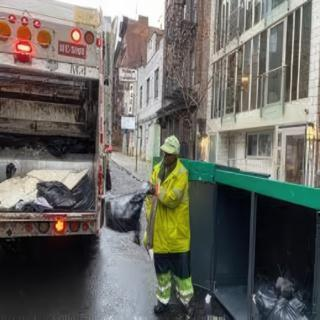Garbage: (253, 275, 312, 319), (103, 194, 141, 232), (36, 177, 76, 210)
